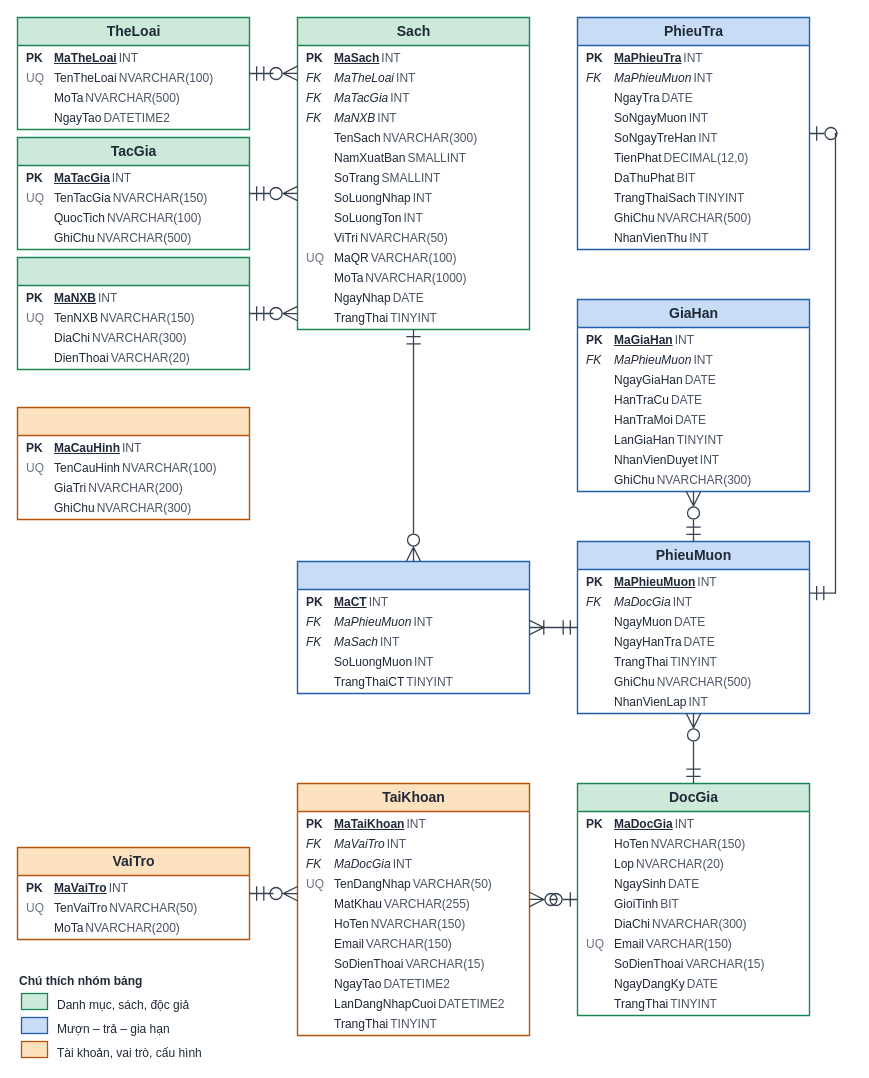
This 869x1078 diagram has some shape labels left out. Each missing label, with the box of its shape:
CauHinhHeThong: (16, 406, 250, 520)
CTPhieuMuon: (296, 560, 530, 694)
NhaXuatBan: (16, 256, 250, 370)
